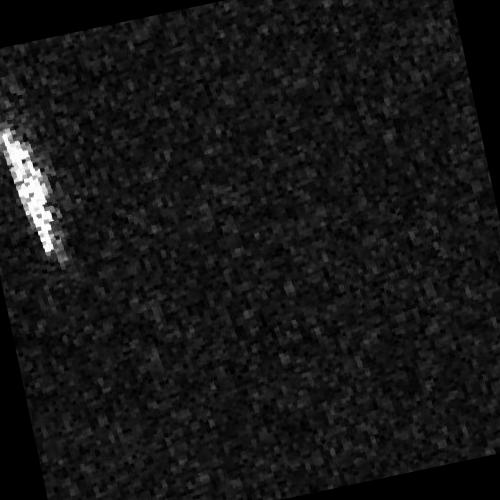ship: (0, 123, 55, 255)
